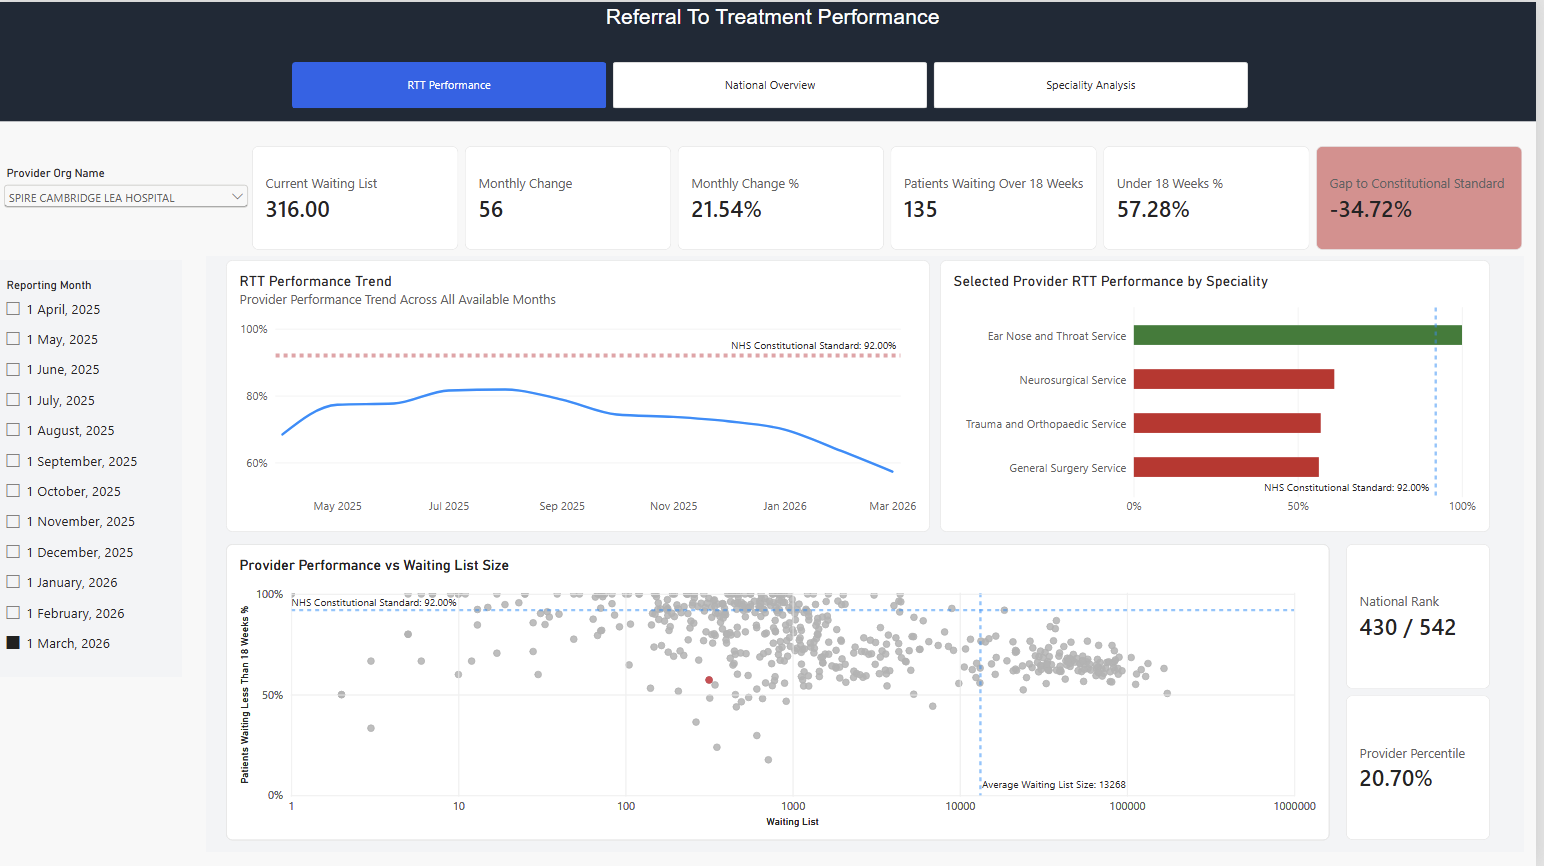

What the dashboard file says about the page in this screenshot:
{"tool":"powerbi","page":{"name":"RTT Performance","canvas":[1920,1080],"ordinal":0},"visuals":[{"type":"group","id":"g1","title":"Group 1","box":[0,0,1920,1062.5],"z":0},{"type":"shape","box":[257.5,316.2,1647.5,745],"z":500,"group":"g1"},{"type":"shape","box":[0,0,1920,149.6],"z":1000,"group":"g1"},{"type":"cardVisual","fields":{"Data":["measures_table.Latest National Waiting List","measures_table.Monthly Change","measures_table.Monthly Change %","measures_table.Over 18 Weeks (Latest Month)","measures_table.Under 18 Weeks &","measures_table.Gap to Constitutional Standard"]},"box":[315,180,1590,130],"z":1000},{"type":"textbox","box":[595.2,3.3,741.6,72.8],"z":2000,"group":"g1"},{"type":"lineChart","title":"RTT Performance Trend","fields":{"Category":["dim_date.PeriodClean.Variation.Date Hierarchy.Year","dim_date.PeriodClean.Variation.Date Hierarchy.Quarter","dim_date.PeriodClean.Variation.Date Hierarchy.Month","dim_date.PeriodClean.Variation.Date Hierarchy.Day"],"Y":["measures_table.Under 18 Weeks &"]},"box":[282.5,322.5,880,340],"z":2000},{"type":"pageNavigator","box":[365.1,74.1,1197,58.7],"z":3000,"group":"g1"},{"type":"slicer","fields":{"Values":["dim_provider.Provider Org Name"]},"box":[0,204.1,315.1,81.2],"z":3000},{"type":"clusteredBarChart","title":"Selected Provider RTT Performance by Speciality","fields":{"Category":["dim_speciality.Treatment Function Name"],"Y":["measures_table.Under 18 Weeks %"]},"box":[1175.9,321.9,713.8,340.8],"z":4000},{"type":"cardVisual","fields":{"Data":["measures_table.Provider Rank Display","measures_table.Provider Percentile"]},"box":[1683.3,677.9,206.4,369.2],"z":5000},{"type":"shape","box":[0,322.1,227.8,521.6],"z":6000},{"type":"scatterChart","title":"Provider Performance vs Waiting List Size","fields":{"Category":["dim_provider.Provider Org Name"],"X":["measures_table.Latest Waiting List"],"Y":["measures_table.Under 18 Weeks %"]},"box":[282.5,677.5,1379.3,370.6],"z":6250,"group":"g2"},{"type":"scatterChart","title":"Provider Performance vs Waiting List Size","fields":{"Category":["dim_provider.Provider Org Name"],"X":["measures_table.Selected Provider Waiting List"],"Y":["measures_table.Selected Provider RTT %"]},"box":[282.5,677.5,1379.3,370.6],"z":6500,"group":"g2"},{"type":"slicer","fields":{"Values":["dim_date.PeriodClean"]},"box":[0,344.5,258.5,499.7],"z":7000},{"type":"group","id":"g2","title":"Group 2","box":[282.5,677.5,1379.3,370.6],"z":8000}]}

Visuals, with their boxes in screenshot pixels (x1, y1, x2, y2), scaled from the page's 1920x1080 canvas onto the 1544x866 screenshot:
"Group 1" group: 0:0:1543:852
shape: 207:254:1532:851
shape: 0:0:1543:120
cardVisual - measures_table.Latest National Waiting List x measures_table.Monthly Change: 253:144:1532:249
textbox: 479:3:1075:61
"RTT Performance Trend" lineChart: 227:259:935:531
pageNavigator: 294:59:1256:106
slicer - dim_provider.Provider Org Name: 0:164:253:229
"Selected Provider RTT Performance by Speciality" clusteredBarChart: 946:258:1520:531
cardVisual - measures_table.Provider Rank Display x measures_table.Provider Percentile: 1354:544:1520:840
shape: 0:258:183:677
"Provider Performance vs Waiting List Size" scatterChart: 227:543:1336:840
"Provider Performance vs Waiting List Size" scatterChart: 227:543:1336:840
slicer - dim_date.PeriodClean: 0:276:208:677
"Group 2" group: 227:543:1336:840
